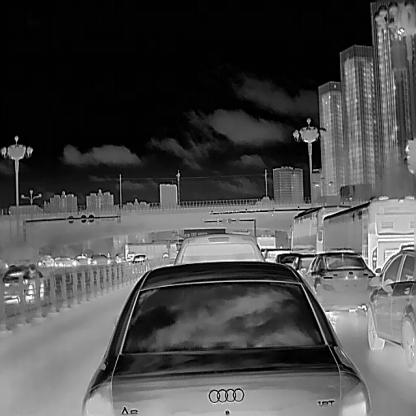bus: (316, 193, 416, 279), (286, 203, 354, 254), (124, 238, 178, 263), (255, 234, 276, 254)
car: (79, 258, 371, 416), (366, 246, 416, 372), (304, 250, 377, 318), (174, 232, 266, 266), (0, 263, 44, 303), (288, 251, 320, 277), (258, 245, 294, 265), (274, 250, 304, 268), (131, 253, 150, 273), (54, 255, 81, 267), (90, 253, 110, 264), (73, 254, 92, 265)
